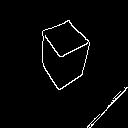cube: (29, 15, 92, 95)
